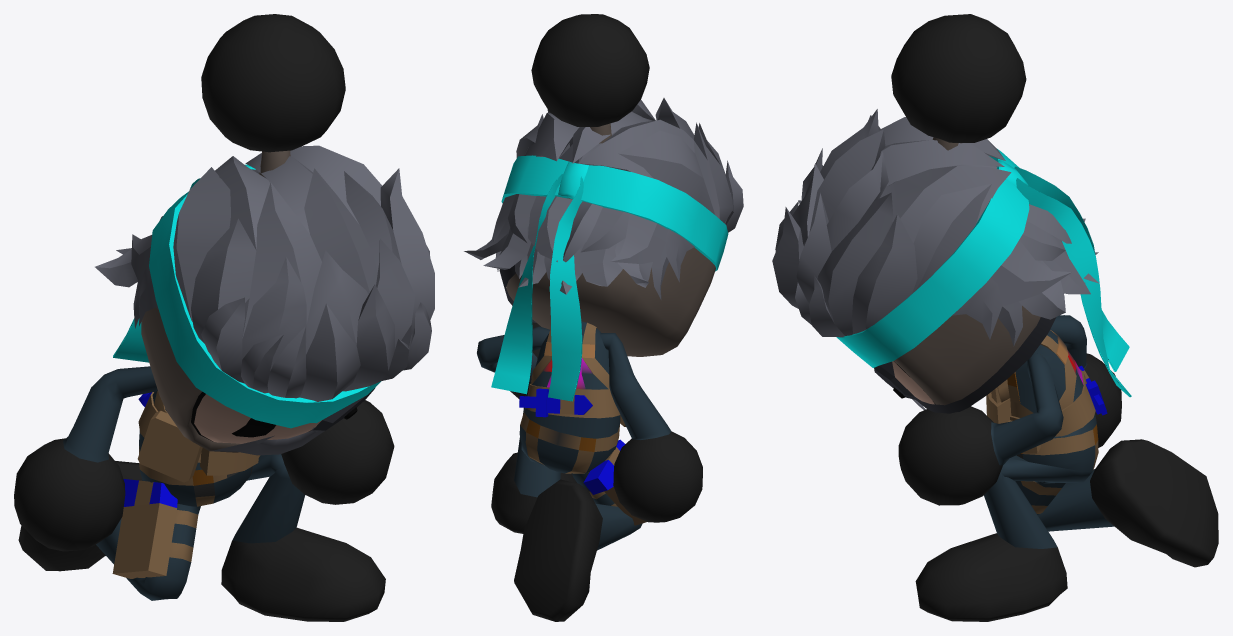
The model's file is eff_spc030_oldsnake_mesh.fbx.
3 renders of one model, left to right at view 1: azimuth 30°, elevation 25°; view 2: azimuth 150°, elevation 25°; view 3: azimuth 270°, elevation 25°, orthographic. The views are drawn at different scales.
Visible parts, largest first — view 1: eff_spc030_oldsnake_mesh; view 2: eff_spc030_oldsnake_mesh; view 3: eff_spc030_oldsnake_mesh.
Boxes of the visible parts, box(x1,y1,x2,y2) form: eff_spc030_oldsnake_mesh: box(14, 14, 434, 621); eff_spc030_oldsnake_mesh: box(464, 14, 743, 621); eff_spc030_oldsnake_mesh: box(772, 14, 1218, 621).
Size of the model in its own units: 80.24 by 157 by 110.
